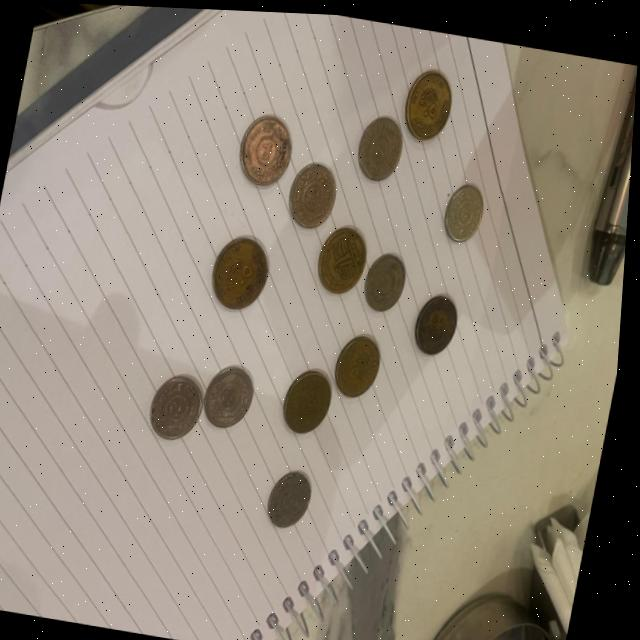Half Pound: (202, 224, 287, 318), (309, 206, 379, 304), (274, 357, 345, 441), (331, 318, 392, 410), (399, 61, 462, 145), (411, 281, 471, 360)
quarter pound: (231, 104, 304, 192), (143, 363, 213, 454), (202, 349, 265, 445), (345, 104, 413, 190), (432, 170, 499, 252), (284, 152, 348, 232), (359, 243, 420, 315), (263, 463, 323, 535)
